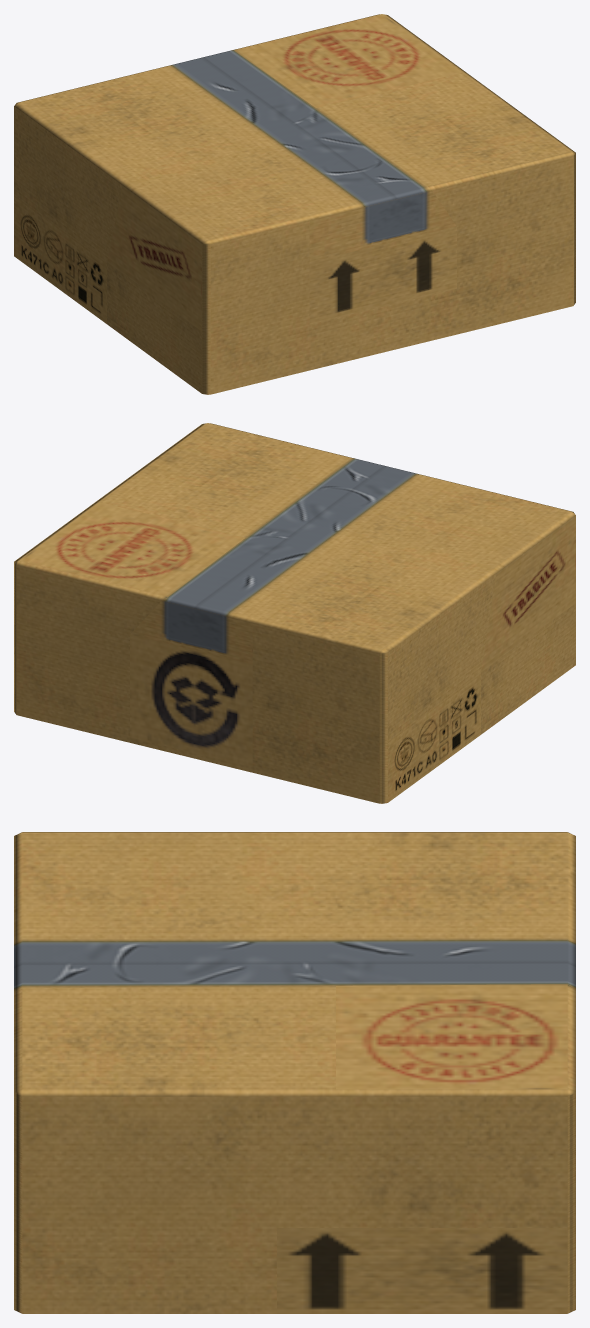
Rendered from cardboard_06.fbx.
The picture shows the model from 3 angles, top to bottom: view 1: azimuth 30°, elevation 25°; view 2: azimuth 150°, elevation 25°; view 3: azimuth 270°, elevation 25°; orthographic projection. The views are drawn at different scales.
Visible parts, largest first — view 1: cardboard_06; view 2: cardboard_06; view 3: cardboard_06.
Boxes of the visible parts, x1,y1,x2,y2 form: cardboard_06: [14, 14, 575, 394]; cardboard_06: [14, 423, 575, 803]; cardboard_06: [14, 832, 575, 1313].
Bounding box in the file's own units: 109 × 43.19 × 98.15.
